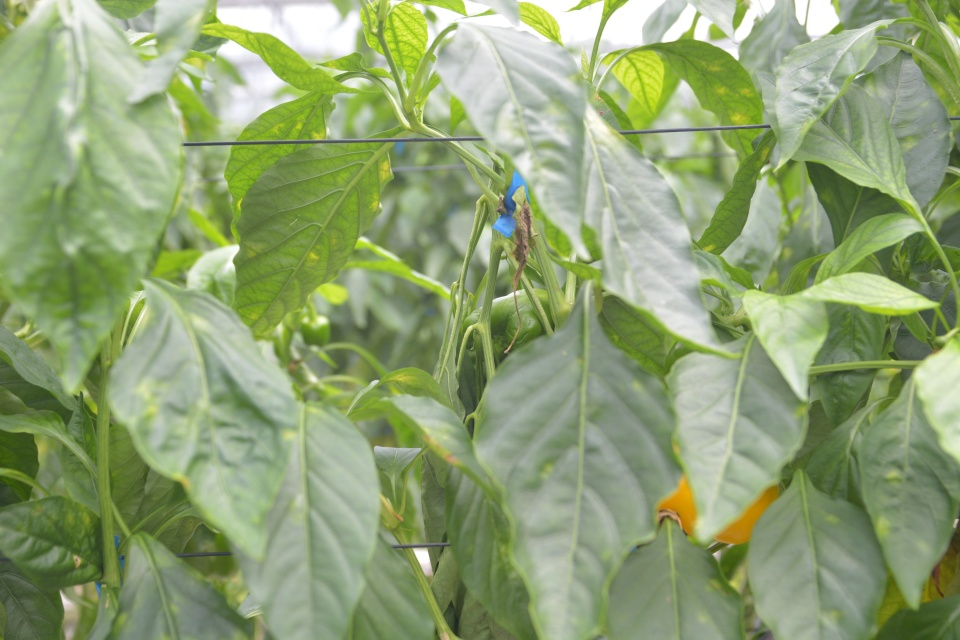fruit: (654, 438, 781, 546), (453, 286, 555, 385)
